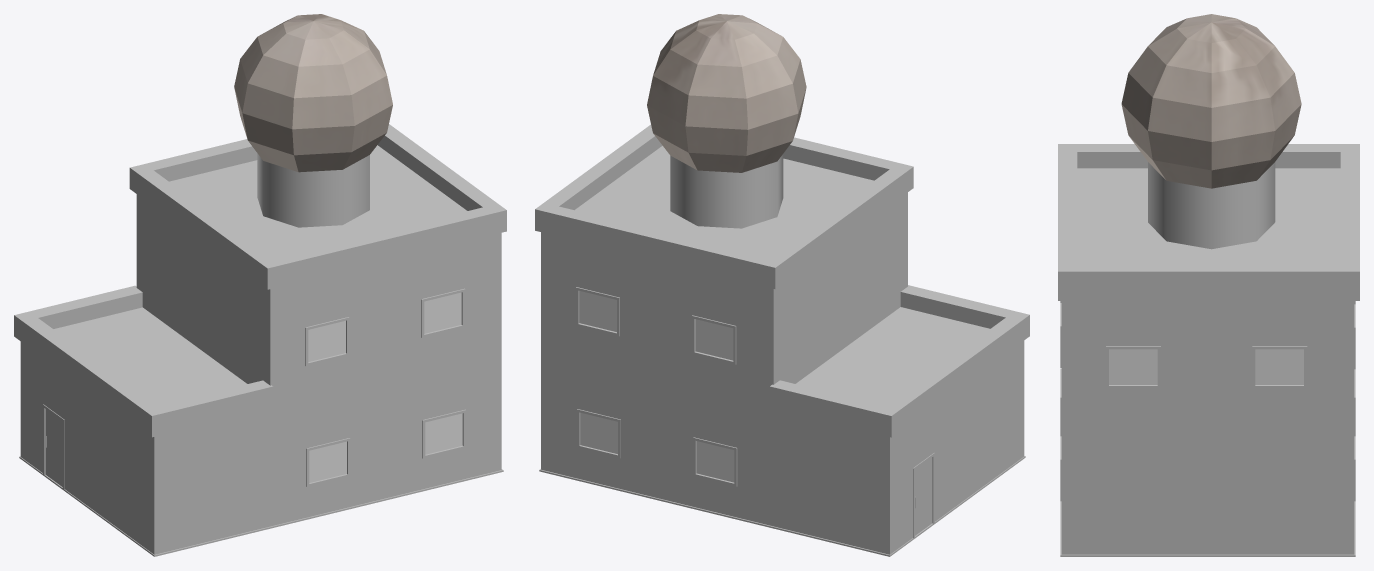
File: AirportAntena02.fbx
3 views of the same model, side by side, from view 1: azimuth 30°, elevation 25°; view 2: azimuth 150°, elevation 25°; view 3: azimuth 270°, elevation 25° (orthographic). The views are drawn at different scales.
Visible parts, largest first — view 1: Airport.002, AirRoof5.003, AirRoof5.001, AirFloor.004, Steklo.009, Steklo.010, Steklo.011, Steklo.012, SMdoor2.003; view 2: Airport.002, AirRoof5.003, AirRoof5.001, AirFloor.004, Steklo.006, Steklo.016, Steklo.008, Steklo.015, SMdoor2.003; view 3: Airport.002, AirRoof5.003, Steklo.013, Steklo.014, AirFloor.004.
Part boxes in pixels (<box>): Airport.002: <box>20,194,501,554</box>; AirRoof5.003: <box>129,14,506,289</box>; AirRoof5.001: <box>14,285,273,437</box>; AirFloor.004: <box>19,456,503,556</box>; Steklo.009: <box>425,413,462,454</box>; Steklo.010: <box>309,441,346,482</box>; Steklo.011: <box>308,320,345,361</box>; Steklo.012: <box>424,292,461,333</box>; SMdoor2.003: <box>45,409,62,486</box>; Airport.002: <box>541,192,1024,554</box>; AirRoof5.003: <box>535,14,913,289</box>; AirRoof5.001: <box>769,285,1029,437</box>; AirFloor.004: <box>539,456,1025,556</box>; Steklo.006: <box>696,441,734,482</box>; Steklo.016: <box>695,319,733,360</box>; Steklo.008: <box>580,412,617,453</box>; Steklo.015: <box>579,291,616,331</box>; SMdoor2.003: <box>915,457,932,535</box>; Airport.002: <box>1060,295,1355,554</box>; AirRoof5.003: <box>1058,14,1359,294</box>; Steklo.013: <box>1109,349,1157,384</box>; Steklo.014: <box>1255,349,1303,384</box>; AirFloor.004: <box>1060,369,1355,556</box>.
Bounding box in the file's own units: 1226 × 1418 × 825.
